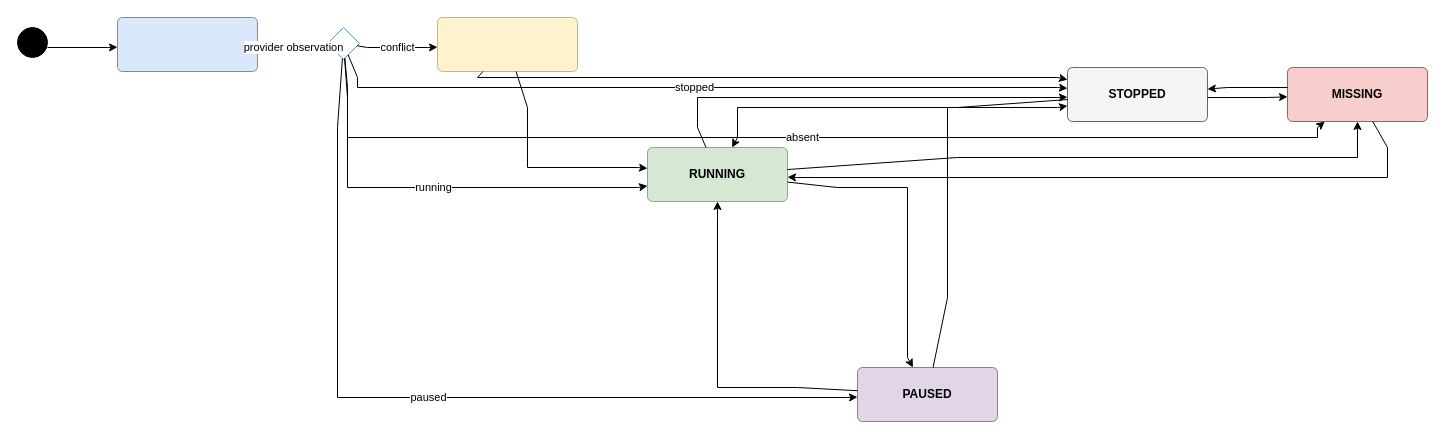
Some shapes in this 1445 by 439 pixel diagram are drawn without their labels. Each missing label, with the centre of its shape:
AMBIGUOUS: (507,44)
UNKNOWN: (187,44)
